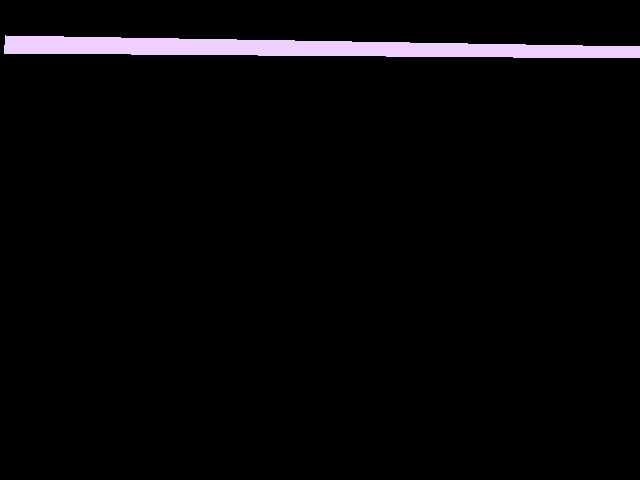Train: (4, 35, 640, 58)
